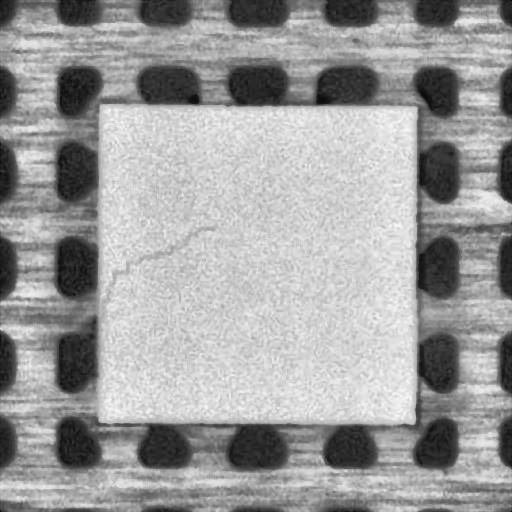DIE_CRACK: (100, 223, 216, 316)
